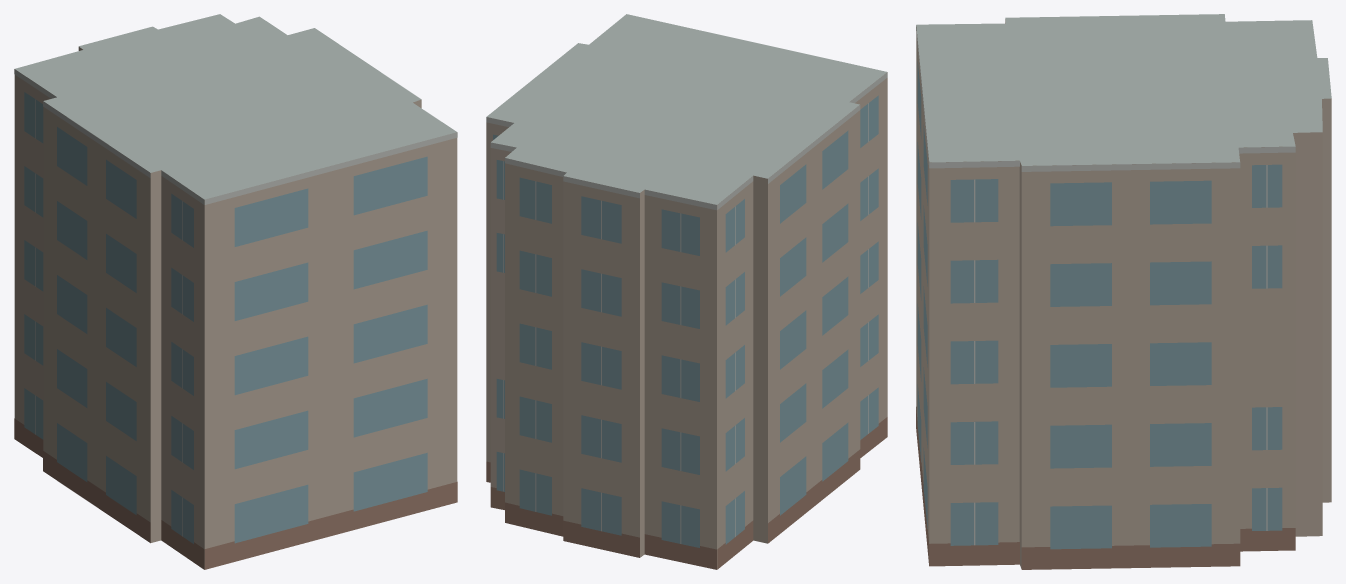
The model's file is survey-upis-32751940.glb.
The picture shows the model from 3 angles, left to right: view 1: azimuth 30°, elevation 25°; view 2: azimuth 150°, elevation 25°; view 3: azimuth 270°, elevation 25°; orthographic projection. The views are drawn at different scales.
Parts seen in each view (by area): view 1: survey-upis-32751940.tmp; view 2: survey-upis-32751940.tmp; view 3: survey-upis-32751940.tmp.
Boxes of the visible parts, <box> form: survey-upis-32751940.tmp: <box>14,14,457,569</box>; survey-upis-32751940.tmp: <box>486,14,887,569</box>; survey-upis-32751940.tmp: <box>916,14,1331,569</box>.
Bounding box in the file's own units: 13.24 × 16.4 × 15.3.
